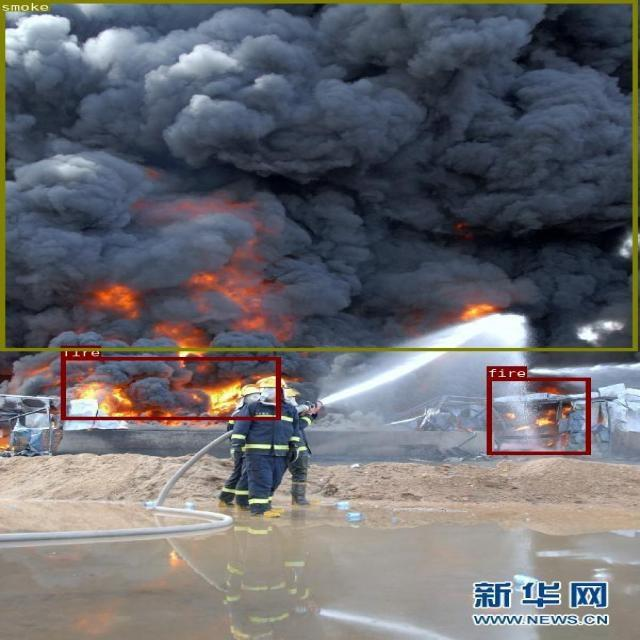fire: (60, 357, 279, 419), (486, 378, 590, 455)
smoke: (0, 0, 637, 351)
